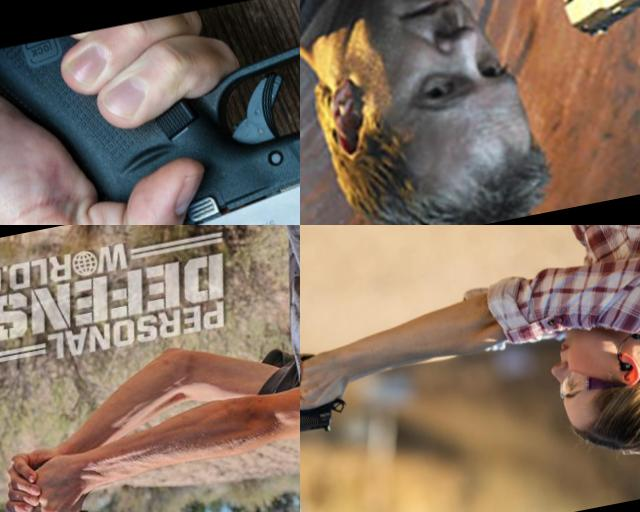handgun: (0, 0, 300, 225), (533, 0, 640, 91), (0, 445, 110, 512), (300, 346, 368, 452)
